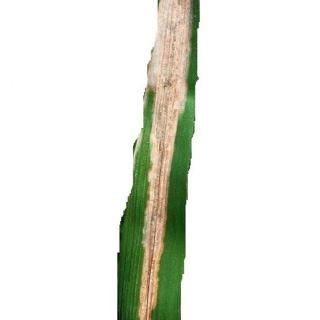Hawar-Daun: (129, 0, 197, 320)
